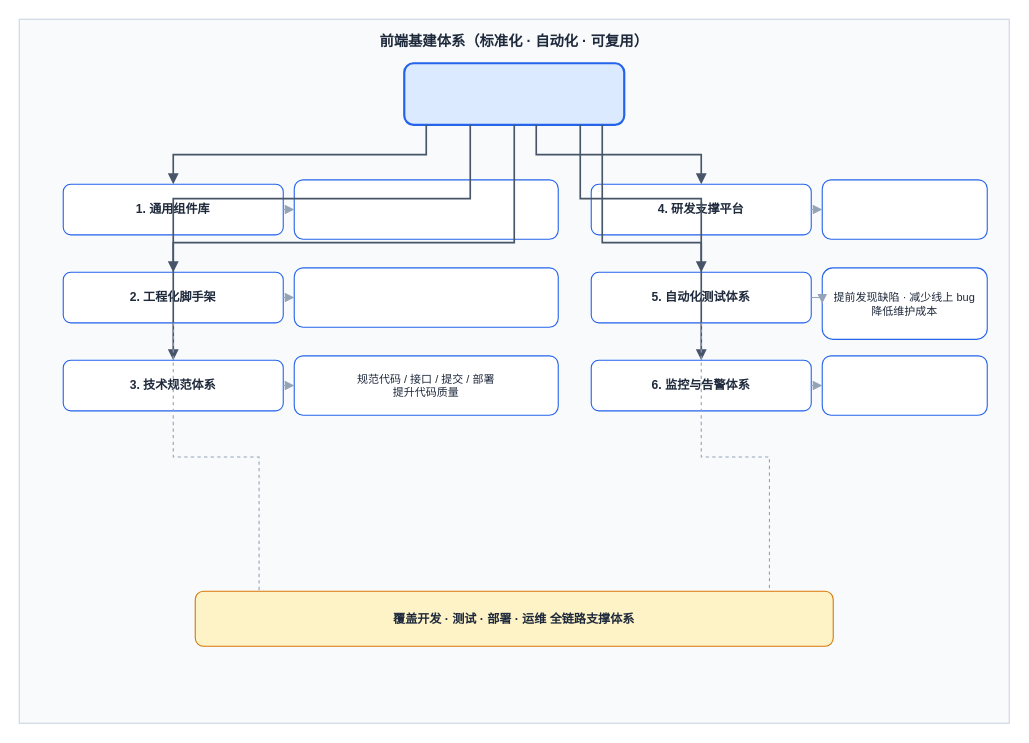
Image size: 1029x743. Some labels were removed from this diagram. Each missing label, with the centre of its shape:
"前端基建 六大核心模块" goes at [514,93].
"实时监控 · 快速定位排查 保障系统稳定" goes at [904,385].
"标准化项目初始化 · 统一技术栈 降低上手成本" goes at [425,297].
"统一 UI · 减少重复开发 提升体验一致性" goes at [425,209].
"聚合工具 · 简化流程 提升协作效率" goes at [904,209].
